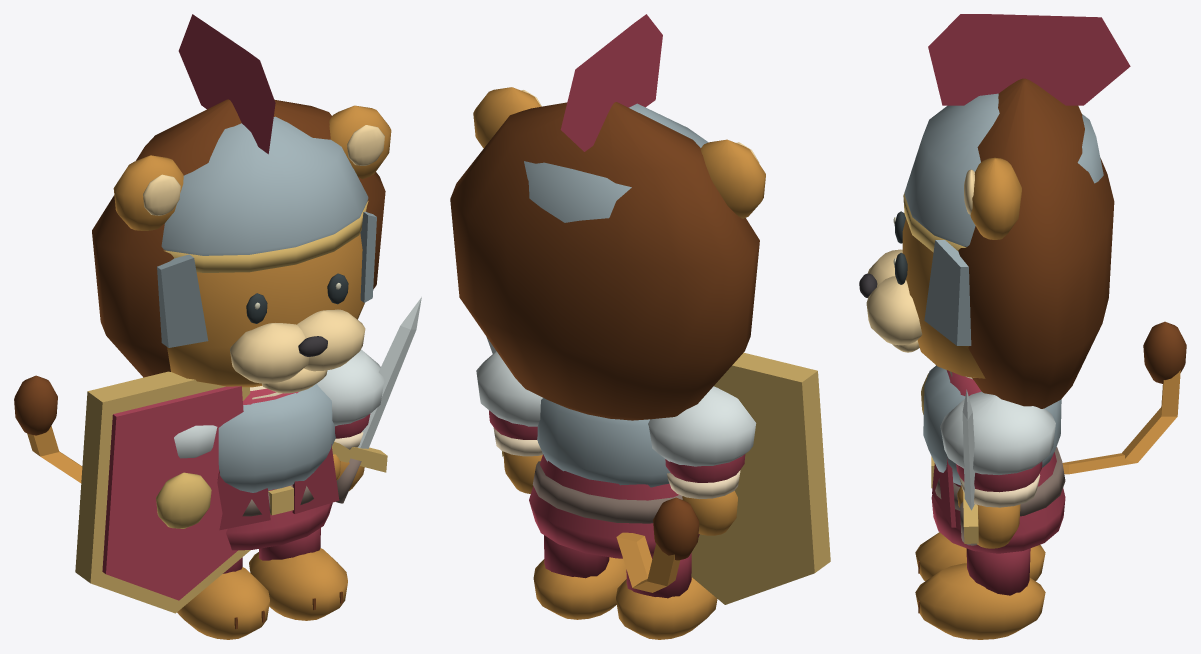
The model's file is guard.glb.
The picture shows the model from 3 angles, left to right: view 1: azimuth 30°, elevation 25°; view 2: azimuth 150°, elevation 25°; view 3: azimuth 270°, elevation 25°; orthographic projection. The views are drawn at different scales.
Parts seen in each view (by area): view 1: Regional helmet, Regional shield face, Lion full mane, Animal cheek head, Shield gold rim, Rounded breastplate, Roman horsehair fan, Soft animal paw.001, Soft animal paw, Lion muzzle, Roman cheekplate, Big shoulder armour.001 (+19 smaller); view 2: Lion full mane, Shield gold rim, Rounded breastplate, Roman horsehair fan, Big shoulder armour, Short folded tunic, Regional helmet, Soft animal paw, Soft animal paw.001, Lion round ear, Broad leather belt, Big shoulder armour.001 (+11 smaller); view 3: Lion full mane, Roman horsehair fan, Regional helmet, Big shoulder armour.001, Soft animal paw.001, Roman cheekplate.001, Animal cheek head, Short folded tunic, Lion round ear.001, Rounded breastplate, Lion muzzle.001, Curved animal tail (+12 smaller).
Part boxes in pixels (<box>): Regional helmet: <box>161,116,368,255</box>; Regional shield face: <box>102,386,243,600</box>; Lion full mane: <box>92,99,385,377</box>; Animal cheek head: <box>167,233,364,387</box>; Shield gold rim: <box>75,371,250,613</box>; Rounded breastplate: <box>218,384,335,492</box>; Roman horsehair fan: <box>178,14,275,154</box>; Soft animal paw.001: <box>249,548,347,620</box>; Soft animal paw: <box>177,567,269,639</box>; Lion muzzle: <box>230,323,308,383</box>; Roman cheekplate: <box>157,254,208,347</box>; Big shoulder armour.001: <box>316,349,384,426</box>; Lion full mane: <box>450,102,759,420</box>; Shield gold rim: <box>691,352,830,604</box>; Rounded breastplate: <box>537,398,670,487</box>; Roman horsehair fan: <box>560,14,662,151</box>; Big shoulder armour: <box>648,386,756,466</box>; Short folded tunic: <box>529,454,699,558</box>; Regional helmet: <box>524,103,708,222</box>; Soft animal paw: <box>616,577,717,639</box>; Soft animal paw.001: <box>533,557,626,619</box>; Lion round ear: <box>700,139,765,218</box>; Broad leather belt: <box>532,461,682,523</box>; Big shoulder armour.001: <box>476,351,542,426</box>; Lion full mane: <box>958,78,1114,408</box>; Roman horsehair fan: <box>928,14,1130,105</box>; Regional helmet: <box>904,93,1103,246</box>; Big shoulder armour.001: <box>940,391,1055,474</box>; Soft animal paw.001: <box>915,563,1045,639</box>; Roman cheekplate.001: <box>924,240,971,345</box>; Animal cheek head: <box>902,218,985,378</box>; Short folded tunic: <box>931,370,1065,553</box>; Lion round ear.001: <box>970,157,1021,239</box>; Rounded breastplate: <box>923,365,1061,485</box>; Lion muzzle.001: <box>866,276,922,345</box>; Curved animal tail: <box>1062,370,1180,474</box>.
Size of the model in its own units: 1.12 by 1.82 by 0.905.
